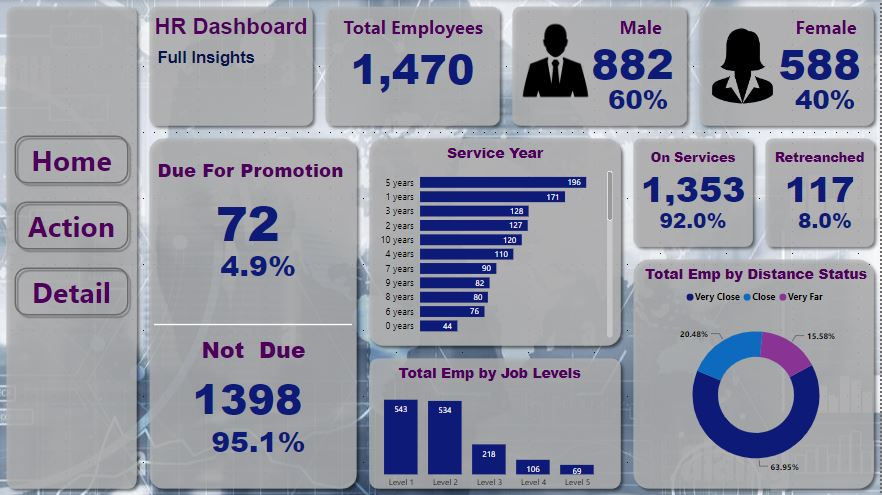

What the dashboard file says about the page in this screenshot:
{"tool":"powerbi","page":{"name":"Home","canvas":[1280,720],"ordinal":0},"visuals":[{"type":"shape","box":[0,0,208,720],"z":0},{"type":"shape","box":[208,0,256,192],"z":1000},{"type":"shape","box":[464,0,272,192],"z":2000},{"type":"shape","box":[736,0,272,192],"z":3000},{"type":"shape","box":[1008,0,272,192],"z":4000},{"type":"shape","box":[208,192,320,528],"z":5000},{"type":"shape","box":[528,192,384,320],"z":6000},{"type":"shape","box":[528,512,384,208],"z":7000},{"type":"shape","box":[912,192,192,176],"z":8000},{"type":"textbox","box":[208,16,256,48],"z":9000},{"type":"textbox","box":[224,64,224,48],"z":10000},{"type":"textbox","box":[480,16,256,80],"z":11000},{"type":"textbox","box":[896,16,112,48],"z":12000},{"type":"textbox","box":[1152,16,128,48],"z":13000},{"type":"card","fields":{"Values":["New Measure.Total Emp"]},"box":[448,48,304,96],"z":14000},{"type":"card","fields":{"Values":["New Measure.Male"]},"box":[832,48,176,80],"z":15000},{"type":"card","fields":{"Values":["New Measure.% male"]},"box":[864,112,128,64],"z":16000},{"type":"card","fields":{"Values":["New Measure.female"]},"box":[1104,48,176,80],"z":17000},{"type":"card","fields":{"Values":["New Measure.% female"]},"box":[1136,112,128,64],"z":18000},{"type":"card","fields":{"Values":["New Measure.Due For Promotion"]},"box":[240,272,240,96],"z":19000},{"type":"textbox","box":[224,224,352,64],"z":20000},{"type":"card","fields":{"Values":["New Measure.% Due For Promotion"]},"box":[288,352,176,64],"z":21000},{"type":"card","fields":{"Values":["New Measure.Not Due For Promotion"]},"box":[240,528,240,96],"z":22000},{"type":"textbox","box":[288,480,240,80],"z":23000},{"type":"card","fields":{"Values":["New Measure.% Not Due"]},"box":[256,592,240,96],"z":24000},{"type":"shape","box":[224,448,288,48],"z":25000},{"type":"clusteredBarChart","title":"Service Year","fields":{"Category":["HR Analytics Data.Survice Year"],"Y":["New Measure.Total Emp"]},"box":[544,208,352,288],"z":26000},{"type":"columnChart","fields":{"Category":["HR Analytics Data.Job Levels"],"Y":["New Measure.Total Emp"]},"box":[528,528,368,192],"z":27000},{"type":"card","title":"   On Services","fields":{"Values":["New Measure.On Service"]},"box":[912,208,192,96],"z":28000},{"type":"card","fields":{"Values":["New Measure.% On Services"]},"box":[944,288,128,64],"z":29000},{"type":"shape","box":[1104,192,176,176],"z":30000},{"type":"card","title":"Retreanched","fields":{"Values":["New Measure.Will Be Retreanched"]},"box":[1120,208,144,96],"z":31000},{"type":"card","fields":{"Values":["New Measure.% Will Be Retreanched"]},"box":[1136,288,128,64],"z":32000},{"type":"image","box":[736,0,144,176],"z":33000},{"type":"image","box":[1008,32,144,128],"z":34000},{"type":"shape","box":[912,368,368,352],"z":35000},{"type":"donutChart","fields":{"Category":["HR Analytics Data.Distance Status"],"Y":["New Measure.Total Emp"]},"box":[924,384,352,324],"z":36000},{"type":"actionButton","box":[16,192,176,80],"z":36001},{"type":"actionButton","box":[16,288,176,80],"z":36002},{"type":"actionButton","title":"Detail","box":[16,384,176,80],"z":36003}]}

Visuals, with their boxes in screenshot pixels (x1, y1, x2, y2), scaled from the page's 1280x720 canvas onto the 882x495 screenshot:
shape: locate(0, 0, 143, 494)
shape: locate(143, 0, 320, 132)
shape: locate(320, 0, 507, 132)
shape: locate(507, 0, 695, 132)
shape: locate(695, 0, 881, 132)
shape: locate(143, 132, 364, 494)
shape: locate(364, 132, 628, 352)
shape: locate(364, 352, 628, 494)
shape: locate(628, 132, 761, 253)
textbox: locate(143, 11, 320, 44)
textbox: locate(154, 44, 309, 77)
textbox: locate(331, 11, 507, 66)
textbox: locate(617, 11, 695, 44)
textbox: locate(794, 11, 881, 44)
card - New Measure.Total Emp: locate(309, 33, 518, 99)
card - New Measure.Male: locate(573, 33, 695, 88)
card - New Measure.% male: locate(595, 77, 684, 121)
card - New Measure.female: locate(761, 33, 881, 88)
card - New Measure.% female: locate(783, 77, 871, 121)
card - New Measure.Due For Promotion: locate(165, 187, 331, 253)
textbox: locate(154, 154, 397, 198)
card - New Measure.% Due For Promotion: locate(198, 242, 320, 286)
card - New Measure.Not Due For Promotion: locate(165, 363, 331, 429)
textbox: locate(198, 330, 364, 385)
card - New Measure.% Not Due: locate(176, 407, 342, 473)
shape: locate(154, 308, 353, 341)
"Service Year" clusteredBarChart: locate(375, 143, 617, 341)
columnChart - HR Analytics Data.Job Levels x New Measure.Total Emp: locate(364, 363, 617, 494)
"   On Services" card: locate(628, 143, 761, 209)
card - New Measure.% On Services: locate(650, 198, 739, 242)
shape: locate(761, 132, 881, 253)
"Retreanched" card: locate(772, 143, 871, 209)
card - New Measure.% Will Be Retreanched: locate(783, 198, 871, 242)
image: locate(507, 0, 606, 121)
image: locate(695, 22, 794, 110)
shape: locate(628, 253, 881, 494)
donutChart - HR Analytics Data.Distance Status x New Measure.Total Emp: locate(637, 264, 879, 487)
actionButton: locate(11, 132, 132, 187)
actionButton: locate(11, 198, 132, 253)
"Detail" actionButton: locate(11, 264, 132, 319)
